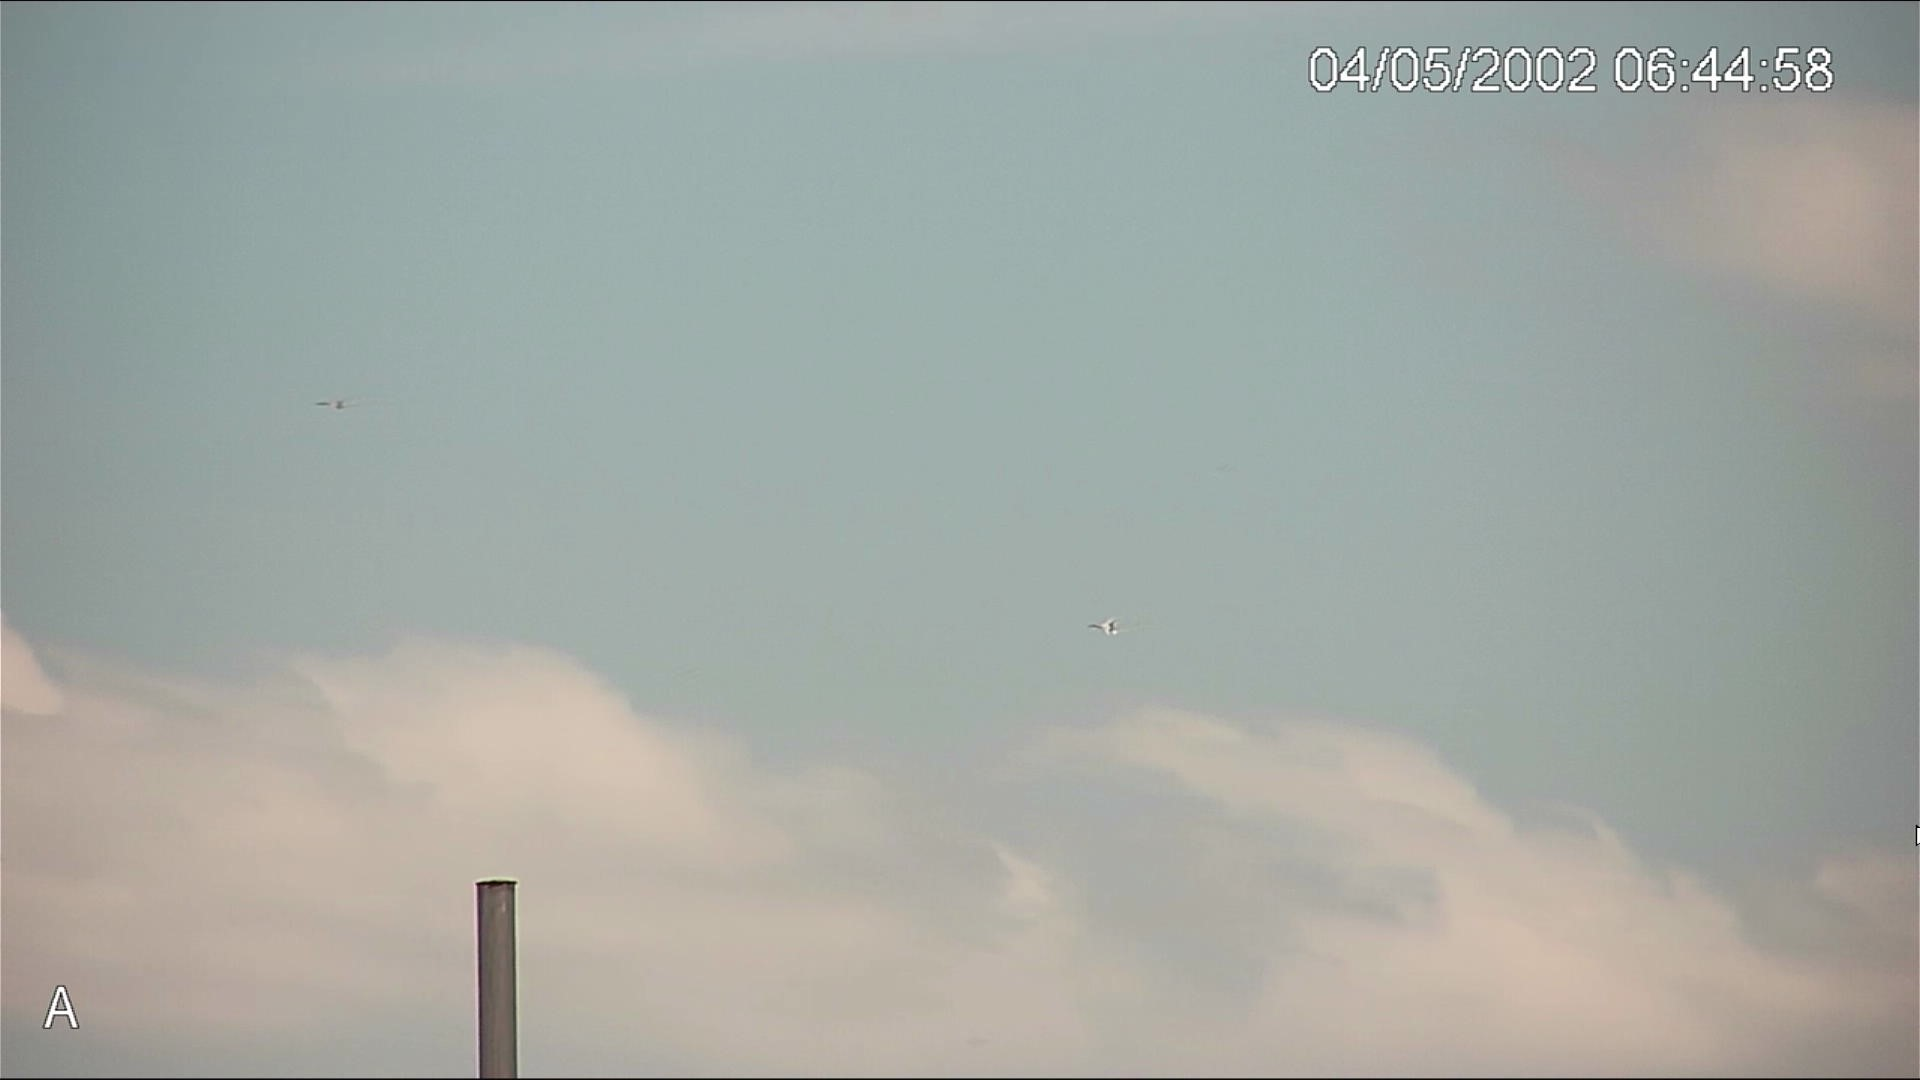SU_30: (1089, 617, 1121, 636)
